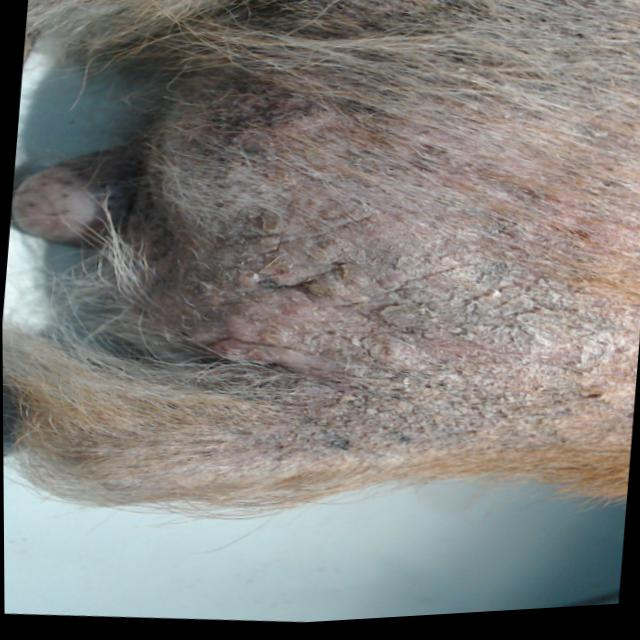demodicosis: (216, 149, 579, 395)
